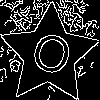O: (24, 29, 76, 87)
